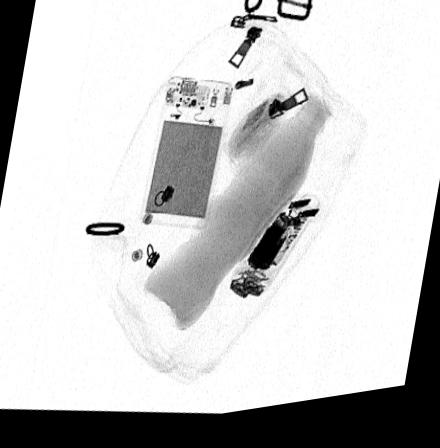Powerbank: (139, 79, 235, 236)
